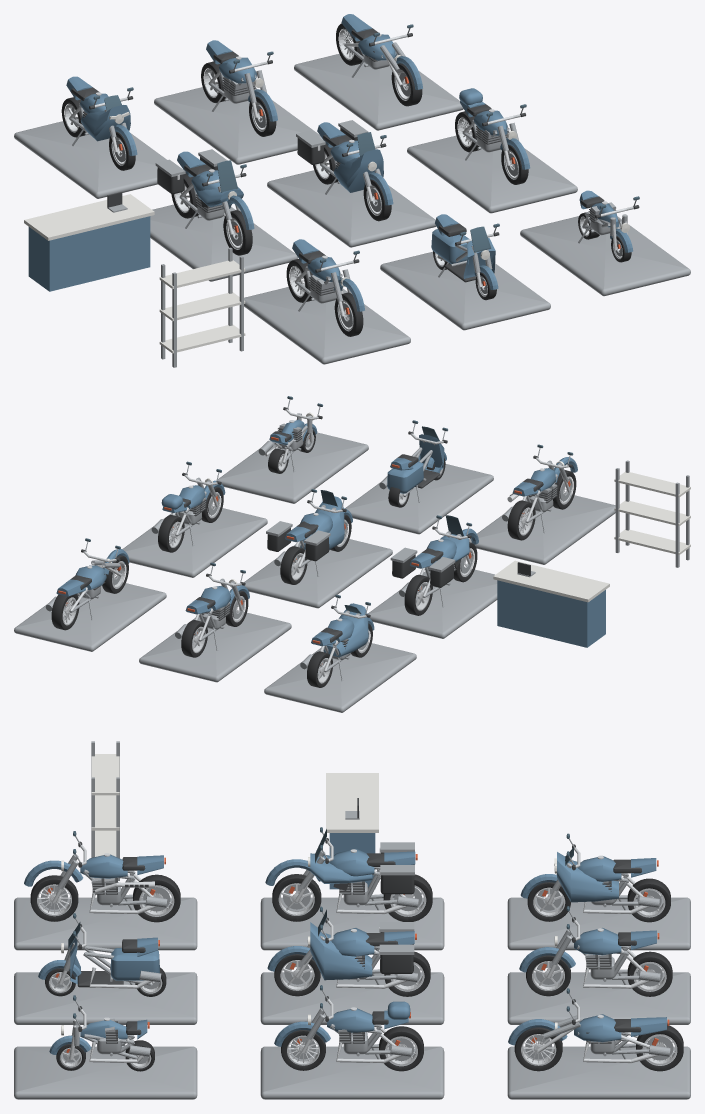
File: motorcycle-racing-and-street-bikes-street-bike-showroo-b122155f__15482.glb
3 renders of one model, top to bottom at view 1: azimuth 30°, elevation 25°; view 2: azimuth 150°, elevation 25°; view 3: azimuth 270°, elevation 25°, orthographic. The views are drawn at different scales.
Parts seen in each view (by area): view 1: 016-showroom-plinth/0, 018-service-counter/0, 010-showroom-plinth/0, 012-showroom-plinth/0, 014-showroom-plinth/0, 004-showroom-plinth/0, 008-showroom-plinth/0, 002-showroom-plinth/0, 000-showroom-plinth/0, 006-showroom-plinth/0, 019-helmet-display-shelf/1, 018-service-counter/1 (+23 smaller); view 2: 016-showroom-plinth/0, 018-service-counter/0, 000-showroom-plinth/0, 002-showroom-plinth/0, 014-showroom-plinth/0, 010-showroom-plinth/0, 004-showroom-plinth/0, 008-showroom-plinth/0, 012-showroom-plinth/0, 006-showroom-plinth/0, 019-helmet-display-shelf/1, 018-service-counter/1 (+25 smaller); view 3: 016-showroom-plinth/0, 010-showroom-plinth/0, 004-showroom-plinth/0, 014-showroom-plinth/0, 012-showroom-plinth/0, 002-showroom-plinth/0, 000-showroom-plinth/0, 008-showroom-plinth/0, 006-showroom-plinth/0, 009-sport-tourer/11, 001-road-sportbike/11, 018-service-counter/1 (+45 smaller).
Part boxes in pixels (<box>): 016-showroom-plinth/0: <box>520,216,690,296</box>; 018-service-counter/0: <box>28,216,150,291</box>; 010-showroom-plinth/0: <box>407,132,577,213</box>; 012-showroom-plinth/0: <box>244,283,410,364</box>; 014-showroom-plinth/0: <box>380,251,550,330</box>; 004-showroom-plinth/0: <box>294,53,463,130</box>; 008-showroom-plinth/0: <box>267,166,436,247</box>; 002-showroom-plinth/0: <box>154,84,322,164</box>; 000-showroom-plinth/0: <box>14,119,166,198</box>; 006-showroom-plinth/0: <box>150,200,297,281</box>; 019-helmet-display-shelf/1: <box>159,260,245,353</box>; 018-service-counter/1: <box>24,194,154,240</box>; 016-showroom-plinth/0: <box>217,432,368,503</box>; 018-service-counter/0: <box>497,580,605,647</box>; 000-showroom-plinth/0: <box>264,642,416,712</box>; 002-showroom-plinth/0: <box>139,611,291,682</box>; 014-showroom-plinth/0: <box>345,464,493,534</box>; 010-showroom-plinth/0: <box>122,505,267,577</box>; 004-showroom-plinth/0: <box>14,582,166,651</box>; 008-showroom-plinth/0: <box>244,538,392,608</box>; 012-showroom-plinth/0: <box>469,494,615,564</box>; 006-showroom-plinth/0: <box>367,567,497,638</box>; 019-helmet-display-shelf/1: <box>614,471,690,554</box>; 018-service-counter/1: <box>493,560,609,602</box>; 016-showroom-plinth/0: <box>14,1046,197,1099</box>; 010-showroom-plinth/0: <box>260,1046,444,1099</box>; 004-showroom-plinth/0: <box>507,1046,690,1099</box>; 014-showroom-plinth/0: <box>14,972,197,1024</box>; 012-showroom-plinth/0: <box>14,897,197,950</box>; 002-showroom-plinth/0: <box>507,972,690,1024</box>; 000-showroom-plinth/0: <box>507,897,690,950</box>; 008-showroom-plinth/0: <box>260,972,444,1024</box>; 006-showroom-plinth/0: <box>260,897,444,950</box>; 009-sport-tourer/11: <box>267,922,414,980</box>; 001-road-sportbike/11: <box>520,852,656,902</box>; 018-service-counter/1: <box>326,773,378,832</box>.
Size of the model in its own units: 8.95 by 1.6 by 9.6.
